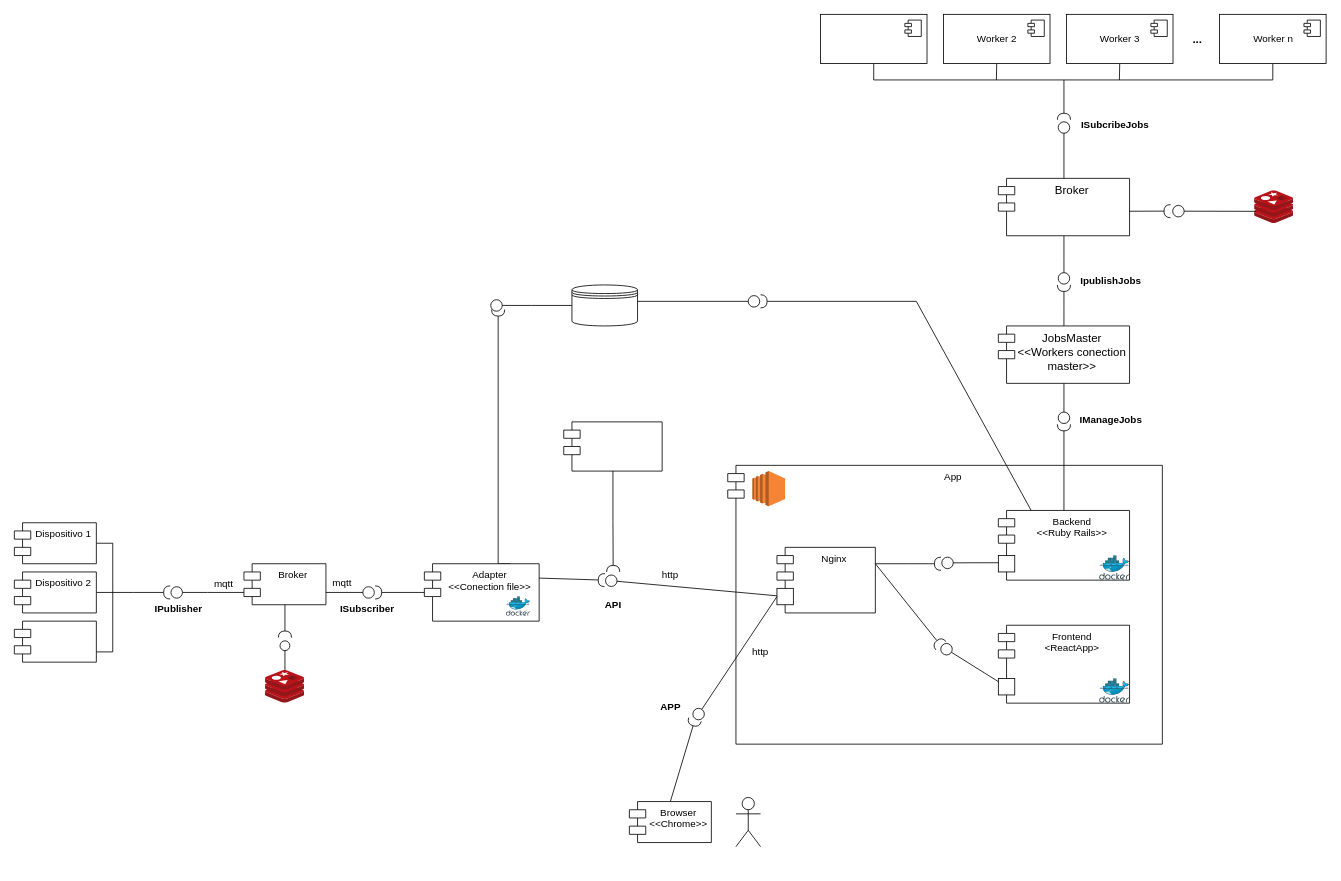
Image size: 1341x881. Some labels were removed from this diagram. The centre of each missing label's shape, as x and y in pixels:
"Actor" belongs at point (748, 822).
"Dispositivo 3" belongs at point (55, 641).
"Emergencies Server" belongs at point (612, 446).
"Emergencies Storage" belongs at point (604, 305).
"Worker 1" belongs at point (873, 39).
